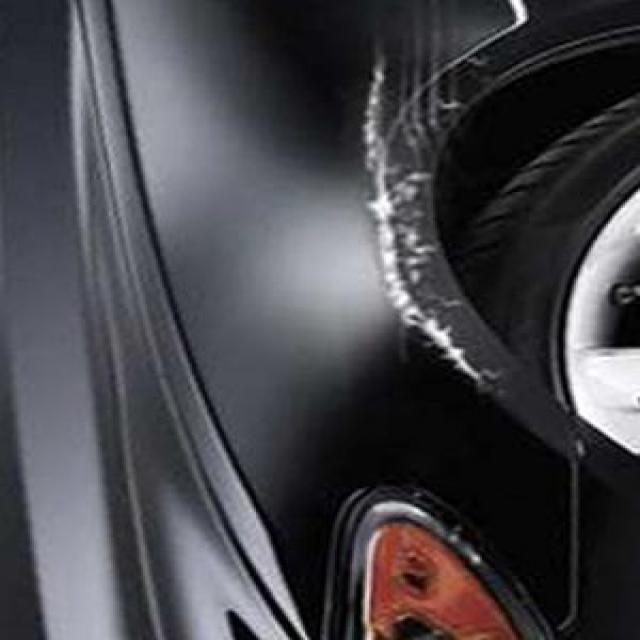scratch: (341, 28, 512, 426)
